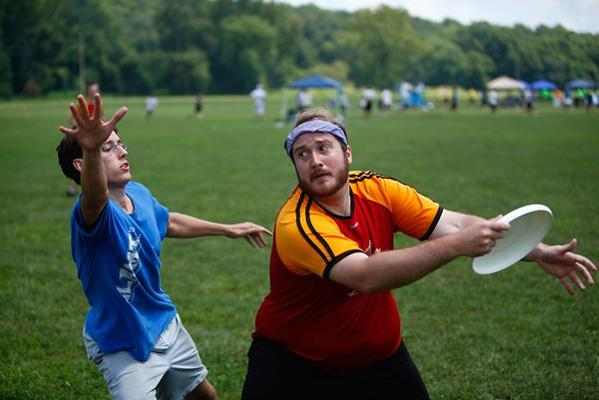person: (241, 114, 597, 400)
